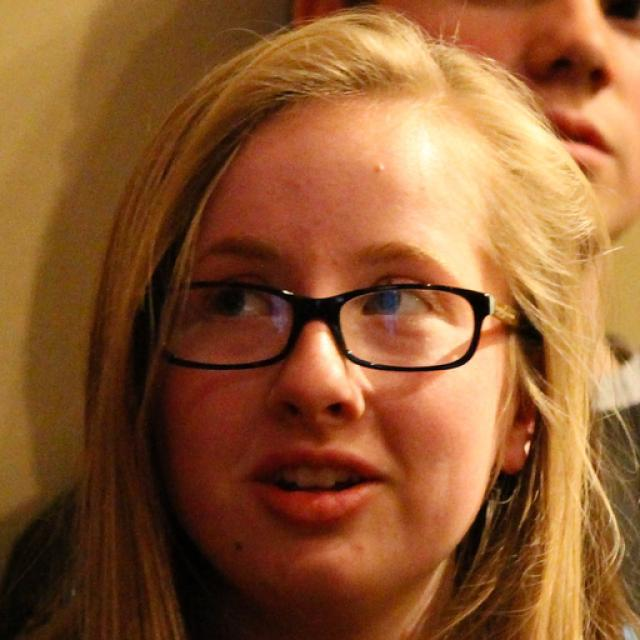Acne: (362, 161, 390, 181), (347, 541, 374, 558)
